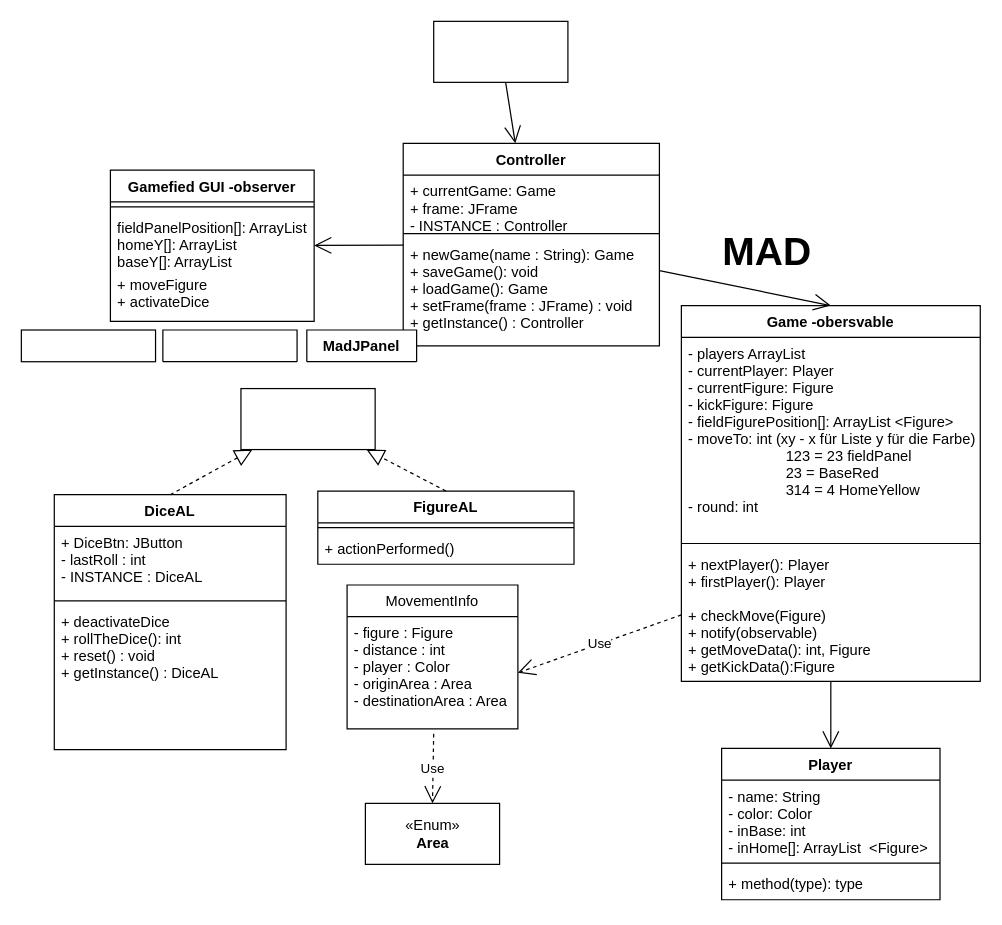
Image size: 1002x925. Some labels were removed from this diagram. Here are the shapes that lost their labels. From the top down, the centre of each, then its label:
At point (500, 51): "main".
At point (88, 345): "Dice -Button".
At point (229, 345): "Figure -Button".
At point (307, 418): "«interface» ActionListener".
